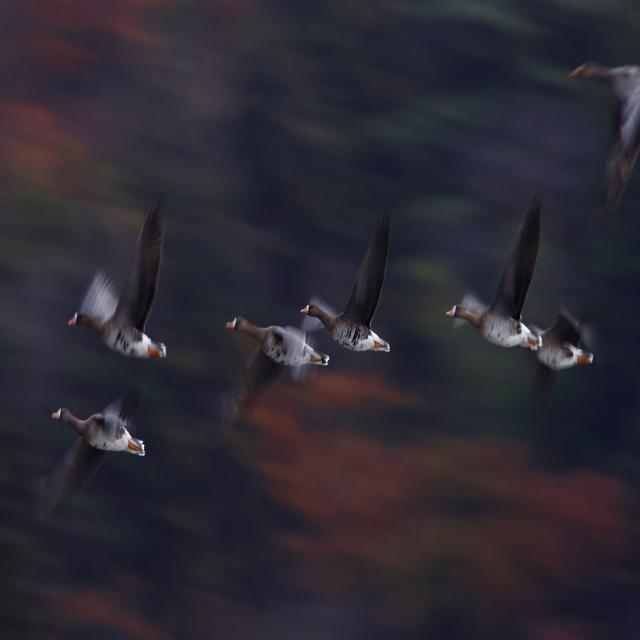bird: (444, 198, 566, 366), (65, 196, 174, 371), (561, 0, 640, 227), (294, 214, 392, 354), (41, 388, 148, 508), (225, 323, 330, 435), (520, 297, 598, 384)
